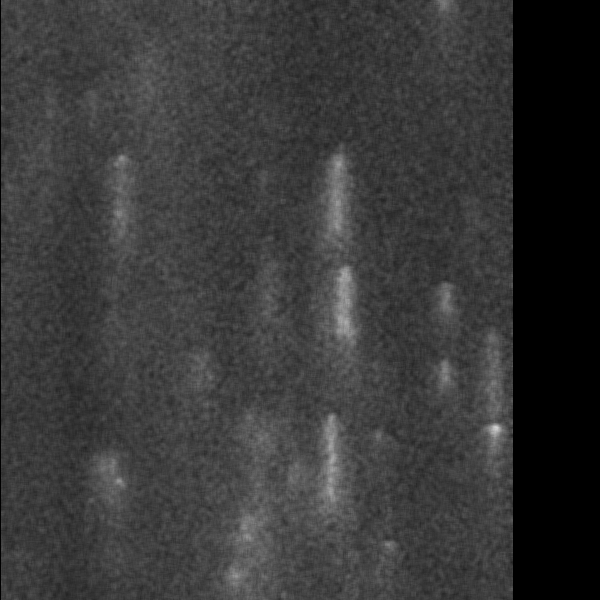spark: (318, 148, 356, 267), (314, 406, 346, 533), (136, 39, 157, 160), (228, 500, 263, 571), (257, 267, 281, 358), (433, 279, 453, 349), (191, 347, 214, 399), (481, 363, 509, 400), (430, 353, 450, 399), (482, 422, 508, 447), (378, 531, 398, 563), (106, 473, 131, 493)
